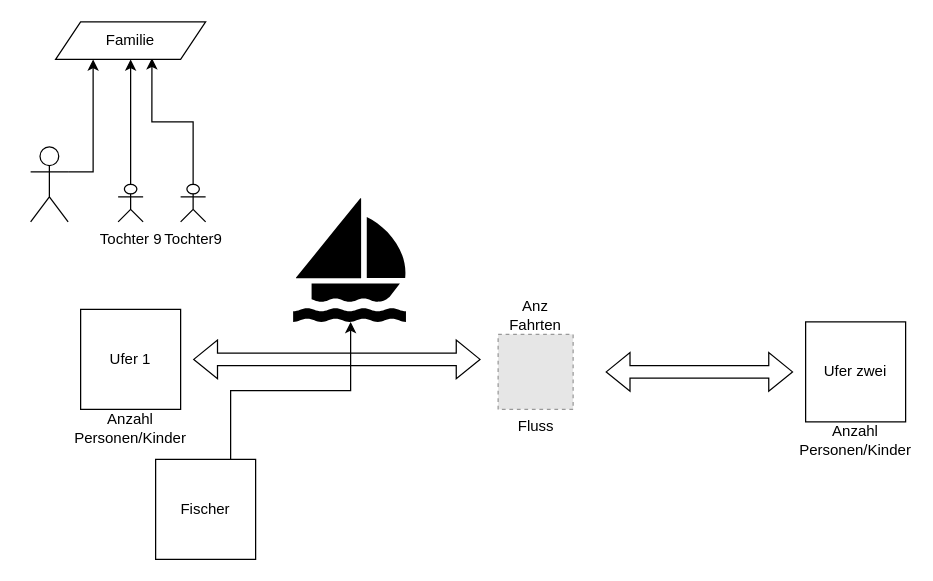
Image size: 933x581. Some labels were removed from this diagram. Grey dashed boxes stand in for pictures. Here are the shapes that lost their labels. From the top down, the centre of each, then its label:
[48,184]: Vater 31
[350,259]: 1 Erwachsener oder 2 Kinder
